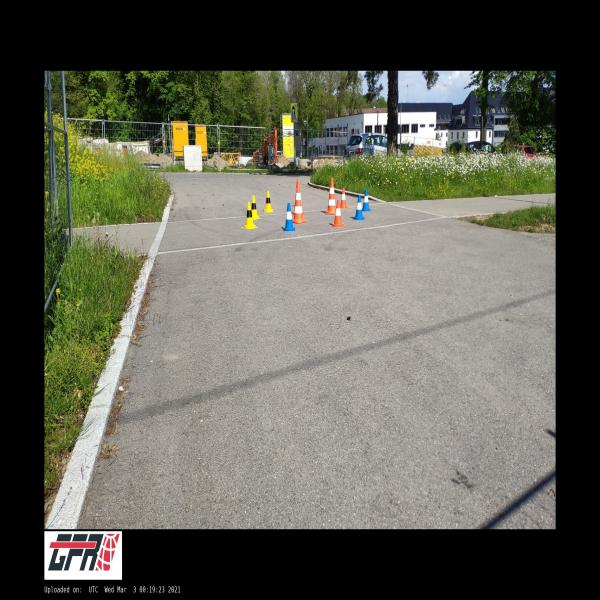blue_cone: (282, 203, 296, 232), (354, 194, 365, 220), (362, 190, 371, 211)
large_orange_cone: (293, 182, 307, 224), (291, 179, 306, 214), (325, 178, 336, 215)
orange_cone: (331, 200, 346, 228), (340, 188, 348, 208)
yellow_cone: (242, 201, 258, 229), (252, 195, 261, 220), (264, 191, 274, 213)
